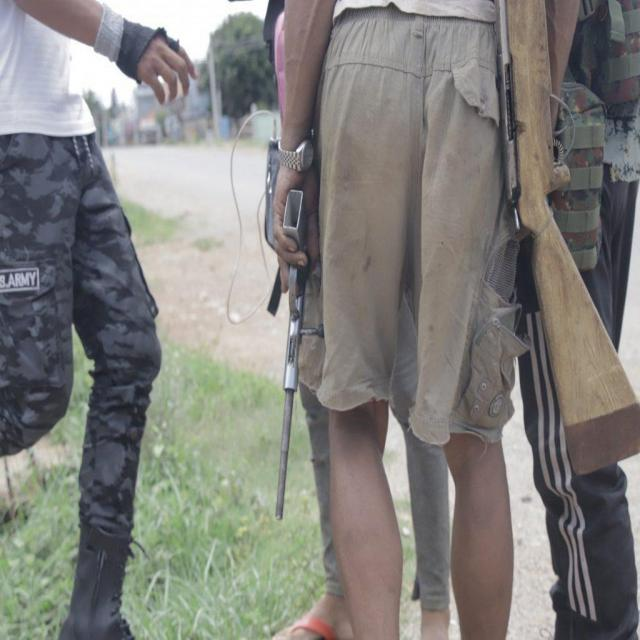gun: (497, 2, 635, 474), (280, 192, 312, 522)
